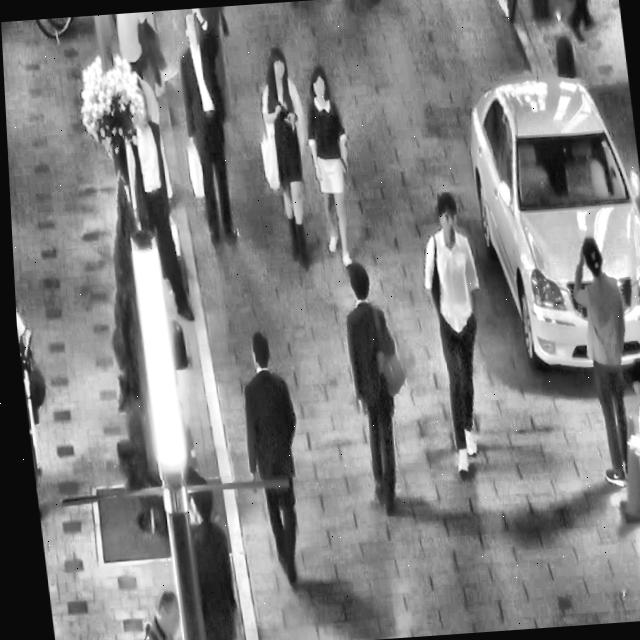light_vehicle: (452, 52, 640, 387)
